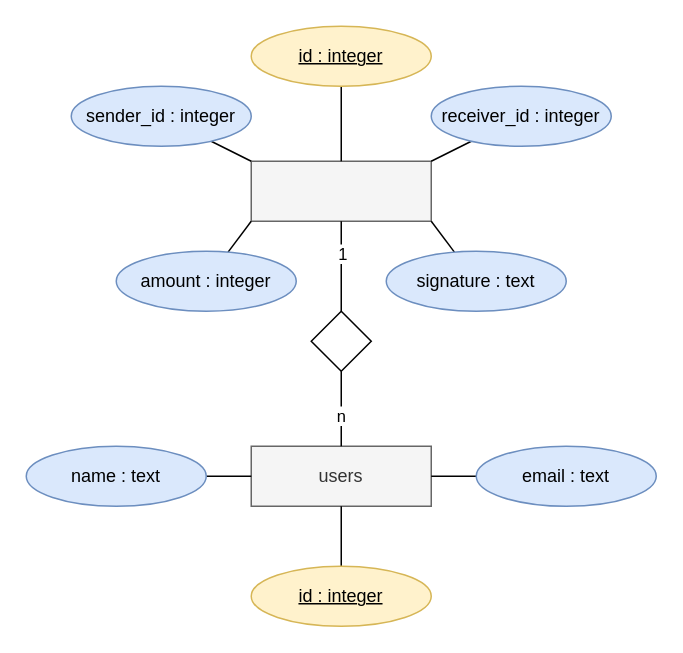
Image size: 683x653. Some labels were removed from this diagram. The box of each missing label's shape, as (x1, y1, x2, y2) in pixels:
has: (310, 310, 371, 371)
ledger: (250, 160, 431, 221)
